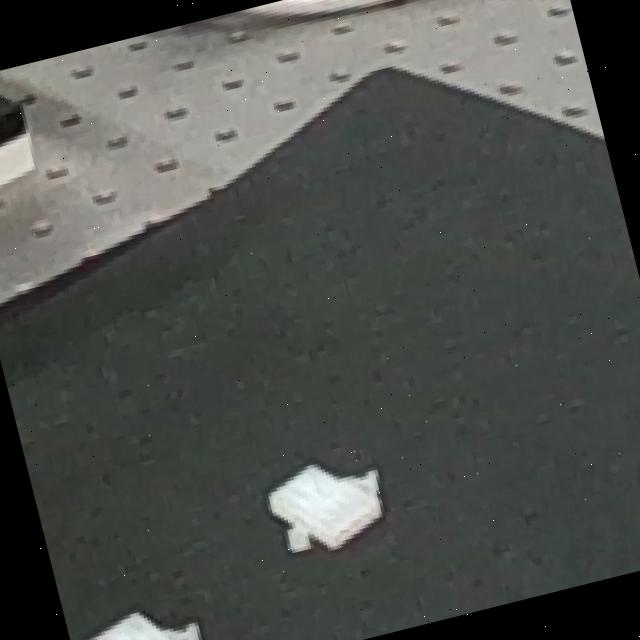pick: (235, 404, 422, 592), (64, 581, 227, 640), (599, 393, 640, 570)
